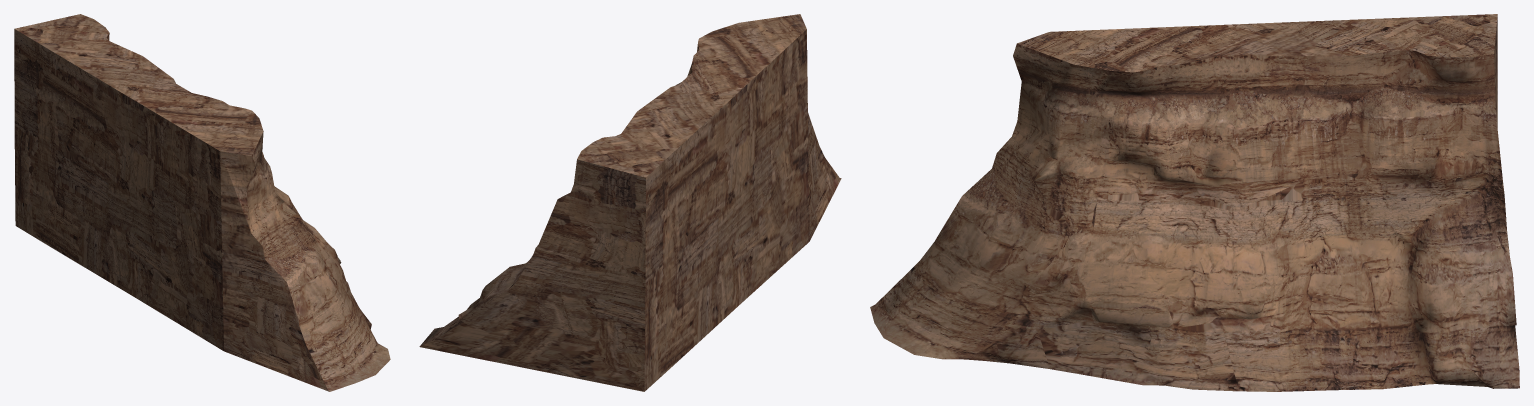
Rendered from Mesh_Cliff_Corner_03_Slope_AU.fbx.
The picture shows the model from 3 angles, left to right: view 1: azimuth 30°, elevation 25°; view 2: azimuth 150°, elevation 25°; view 3: azimuth 270°, elevation 25°; orthographic projection. The views are drawn at different scales.
Parts seen in each view (by area): view 1: Mesh_Cliff_Corner_03_Slope_AU; view 2: Mesh_Cliff_Corner_03_Slope_AU; view 3: Mesh_Cliff_Corner_03_Slope_AU.
Boxes of the visible parts, bbox=[...] form: Mesh_Cliff_Corner_03_Slope_AU: bbox=[14, 14, 390, 391]; Mesh_Cliff_Corner_03_Slope_AU: bbox=[419, 14, 841, 391]; Mesh_Cliff_Corner_03_Slope_AU: bbox=[870, 14, 1519, 391].
Bounding box in the file's own units: 3593 × 3326 × 7784.
